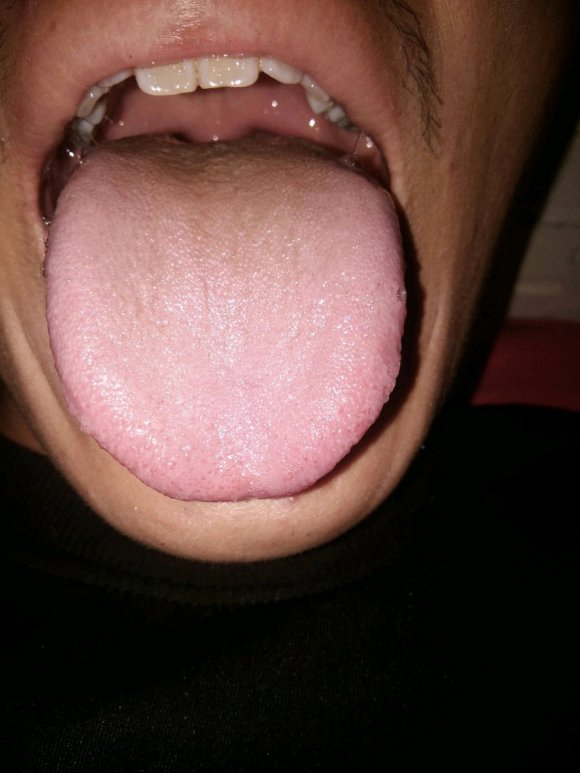baitaishe: (44, 135, 407, 501)
